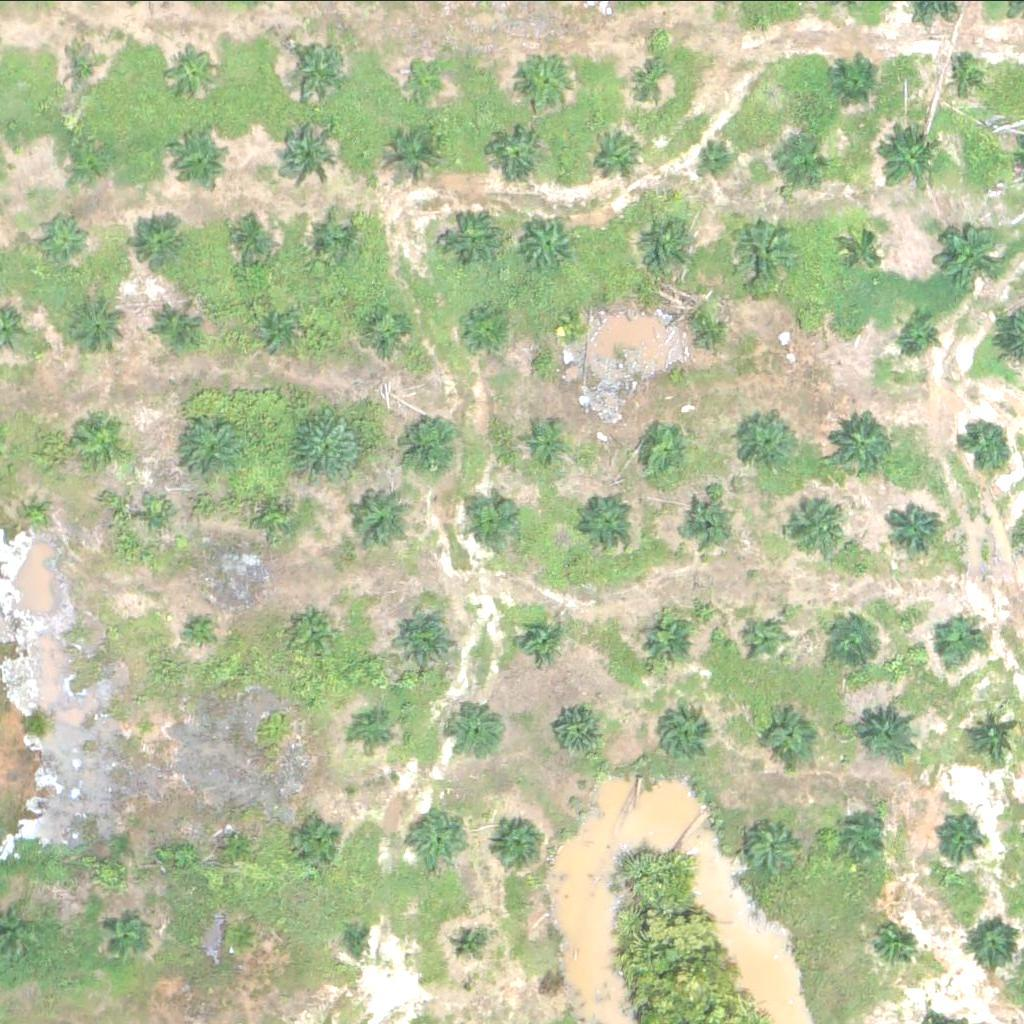Kelapa_Sawit: (174, 411, 250, 486), (392, 407, 468, 482), (718, 212, 794, 287), (288, 407, 364, 482), (938, 227, 1001, 290), (347, 490, 410, 553), (443, 205, 506, 268), (861, 702, 924, 765), (393, 605, 456, 668), (67, 289, 130, 352), (136, 210, 199, 273), (174, 127, 237, 189), (879, 129, 942, 191), (827, 412, 890, 474), (790, 494, 853, 556), (635, 214, 698, 276), (387, 126, 450, 188), (288, 39, 351, 101), (271, 123, 334, 185), (737, 415, 800, 477), (490, 812, 553, 874), (632, 608, 695, 670), (408, 808, 471, 870), (522, 209, 584, 271), (167, 45, 218, 95), (928, 617, 979, 667), (829, 613, 880, 663), (766, 715, 817, 765), (452, 704, 503, 754), (751, 821, 802, 871), (834, 810, 885, 860), (932, 810, 983, 860), (971, 710, 1022, 760), (553, 707, 604, 757), (517, 616, 568, 666), (289, 814, 340, 864), (61, 41, 112, 91), (59, 129, 110, 179), (36, 211, 87, 261), (894, 502, 944, 552), (961, 421, 1011, 471), (678, 495, 728, 545), (472, 492, 522, 542), (582, 496, 632, 546), (455, 306, 505, 356), (359, 307, 409, 357), (490, 125, 540, 175), (522, 55, 572, 105), (785, 142, 835, 192), (638, 429, 688, 479), (656, 710, 706, 760), (972, 919, 1022, 969), (80, 414, 130, 464), (832, 56, 882, 106), (841, 225, 891, 275), (898, 310, 948, 360), (681, 302, 731, 352), (868, 916, 918, 966), (225, 213, 275, 263), (309, 211, 359, 261), (245, 305, 295, 355), (150, 300, 200, 350), (594, 130, 644, 180), (99, 906, 149, 956), (528, 426, 566, 464), (358, 713, 396, 751), (953, 52, 991, 90), (696, 139, 734, 177), (407, 62, 445, 100), (632, 58, 670, 96), (301, 609, 339, 646), (745, 620, 783, 657), (449, 922, 487, 959), (225, 917, 262, 955), (219, 825, 257, 862), (265, 499, 291, 524), (20, 506, 45, 531), (148, 501, 173, 526), (191, 618, 216, 643), (556, 318, 581, 343), (791, 311, 816, 336), (346, 928, 371, 953), (136, 712, 161, 737)
